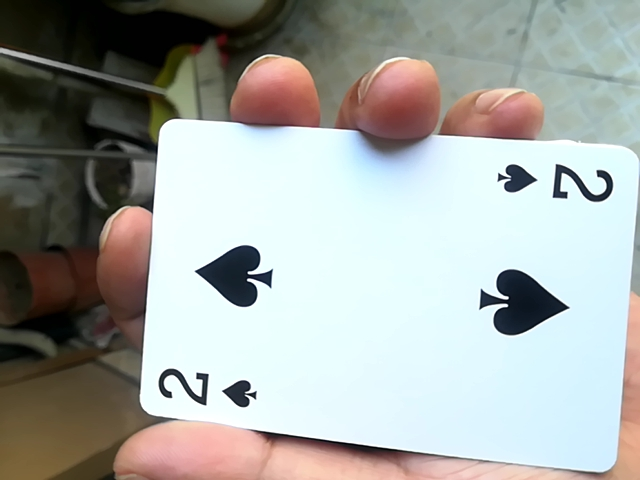ht 2: (125, 123, 639, 464)
